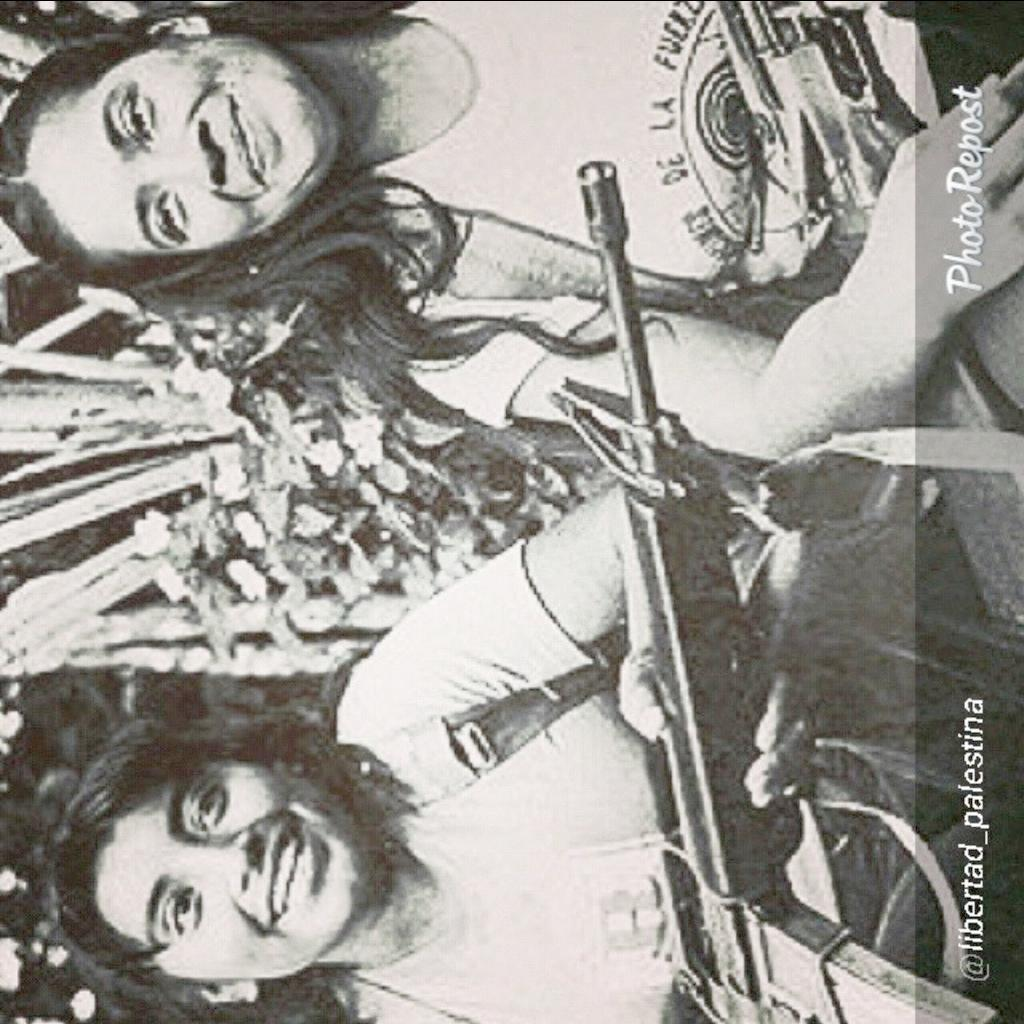gun: (560, 164, 986, 1024)
